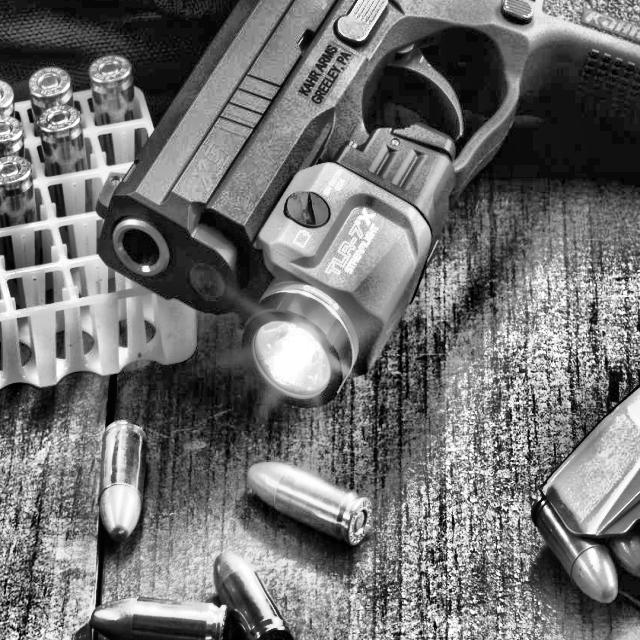Kahr: (93, 0, 640, 405)
